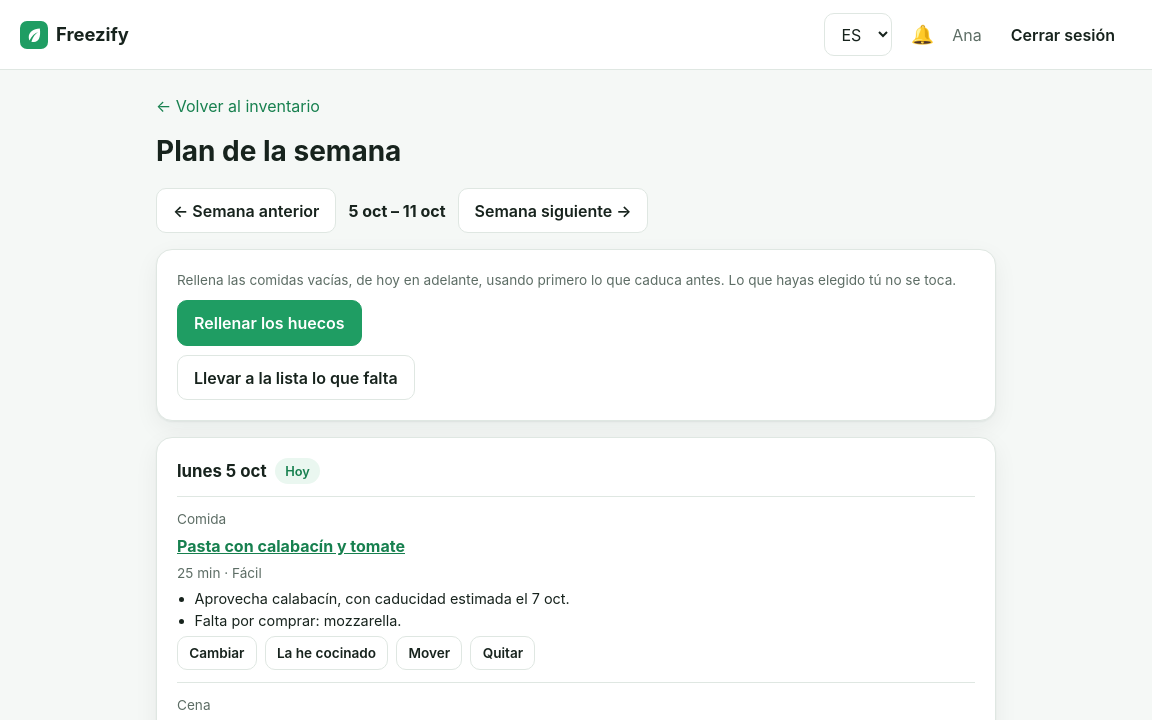
it: meal plan › removes a meal
Expected: the text "5 oct – 11 oct" is shown, top-left (348, 199), bottom-right (446, 223)
Click the button "Quitar". click: (503, 653)
box: top-left (470, 636), bottom-right (535, 670)
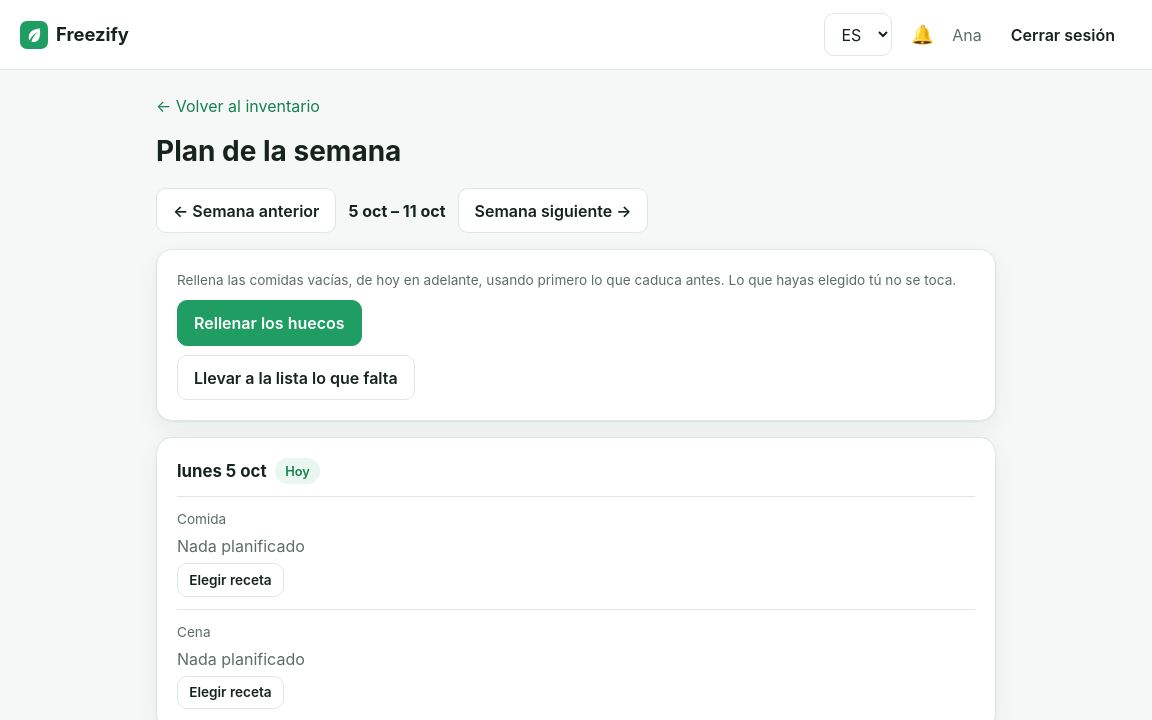
Result: the 1st text "Nada planificado" is shown at top-left (177, 536), bottom-right (305, 556)
